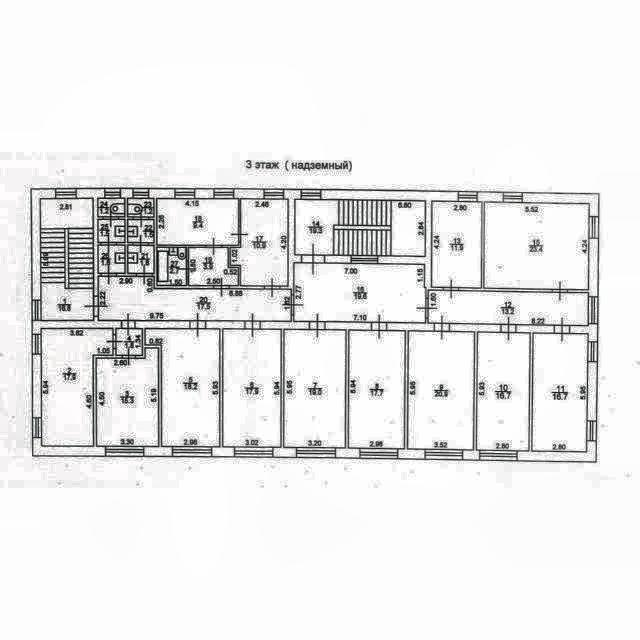room: (485, 202, 588, 289), (145, 329, 220, 447), (98, 276, 291, 321), (41, 329, 113, 446), (293, 263, 427, 323), (409, 331, 472, 450), (285, 329, 345, 448), (296, 201, 424, 254), (224, 329, 280, 447), (350, 330, 404, 448), (41, 199, 93, 321), (534, 334, 588, 451), (97, 348, 159, 447), (478, 334, 530, 451), (428, 290, 588, 326), (231, 199, 288, 286), (432, 202, 481, 287), (157, 199, 239, 244), (189, 248, 238, 285), (158, 247, 186, 285), (98, 245, 124, 273), (127, 245, 153, 273), (116, 328, 142, 355), (99, 220, 124, 242), (128, 220, 153, 242), (98, 199, 125, 216), (128, 199, 153, 216)
